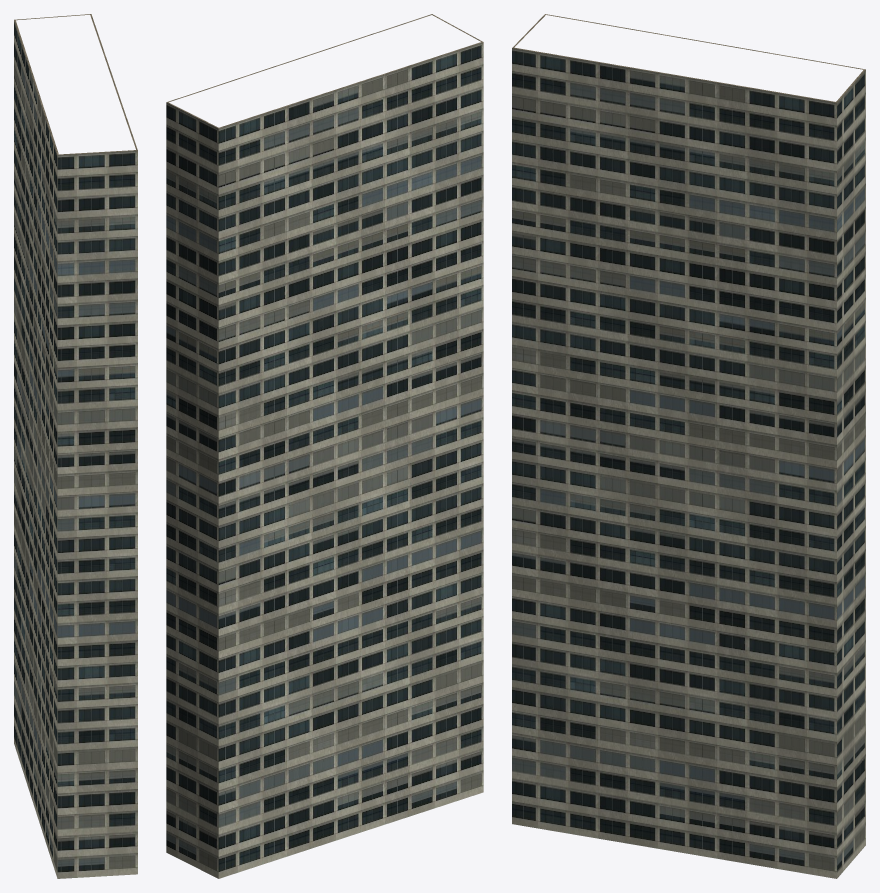
The picture shows the model from 3 angles, left to right: view 1: azimuth 30°, elevation 25°; view 2: azimuth 150°, elevation 25°; view 3: azimuth 270°, elevation 25°; orthographic projection. The views are drawn at different scales.
Parts seen in each view (by area): view 1: RecessedBalconies, ConcreteRoof; view 2: RecessedBalconies, ConcreteRoof; view 3: RecessedBalconies, ConcreteRoof.
Boxes of the visible parts, box(x1,y1,x2,y2) form: RecessedBalconies: box(14, 20, 137, 878); ConcreteRoof: box(14, 14, 137, 154); RecessedBalconies: box(166, 42, 483, 878); ConcreteRoof: box(166, 14, 483, 128); RecessedBalconies: box(512, 48, 865, 878); ConcreteRoof: box(512, 14, 865, 102).
Size of the model in its own units: 29.75 by 121 by 49.99.
2 materials, 2 textured.
